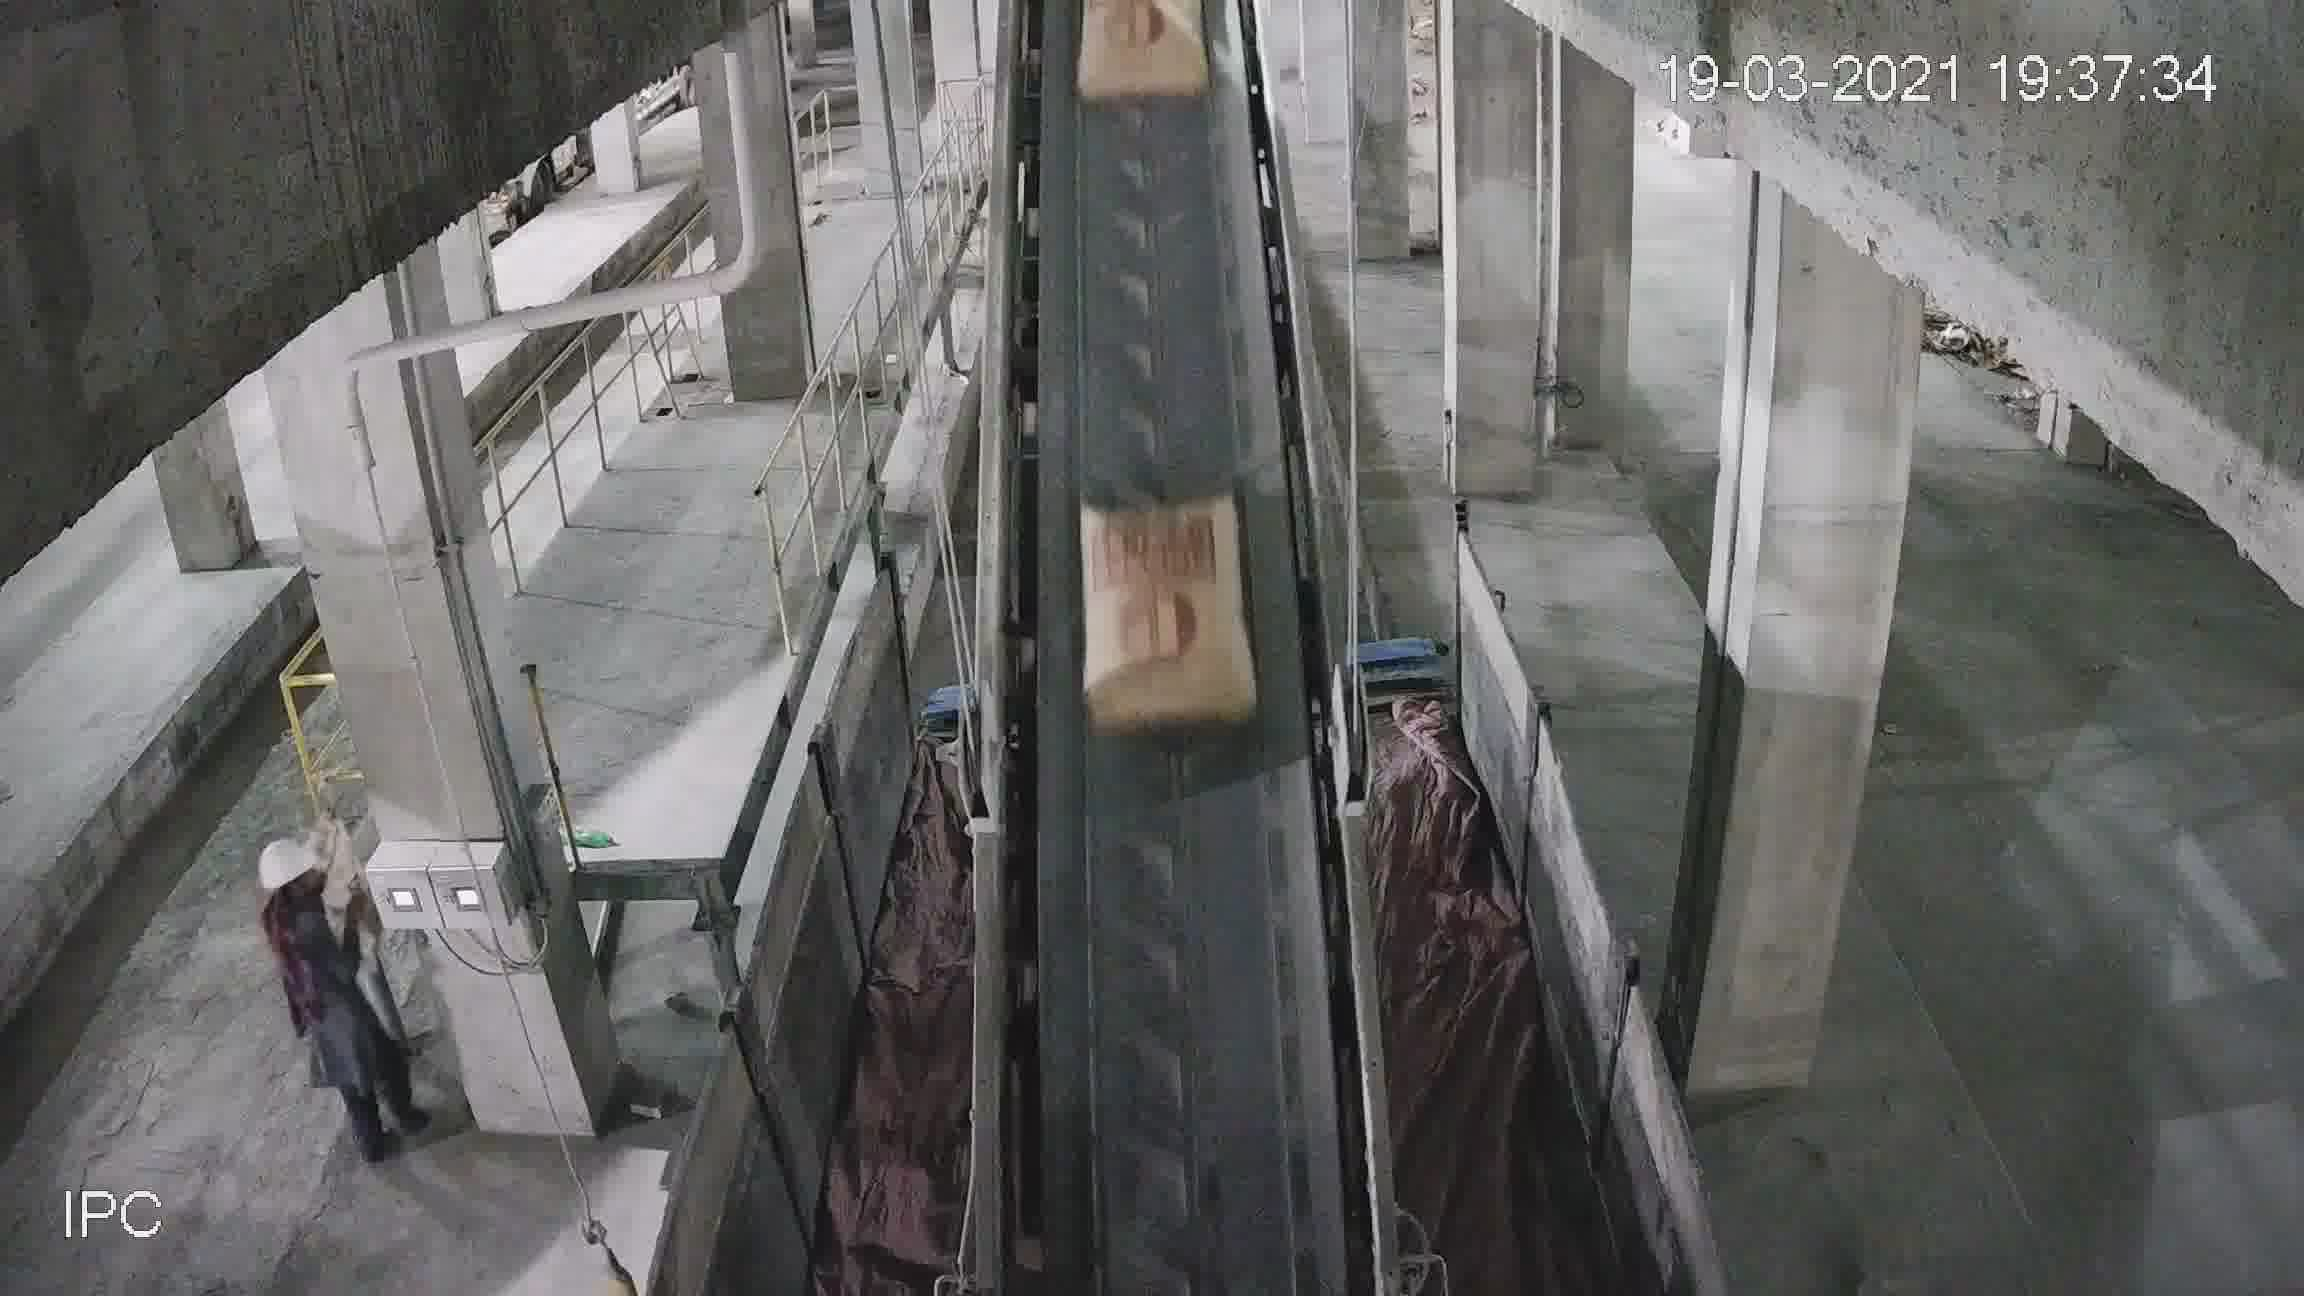bag: (1079, 495, 1245, 731), (1071, 13, 1218, 85)
belt: (976, 30, 1350, 1180)
